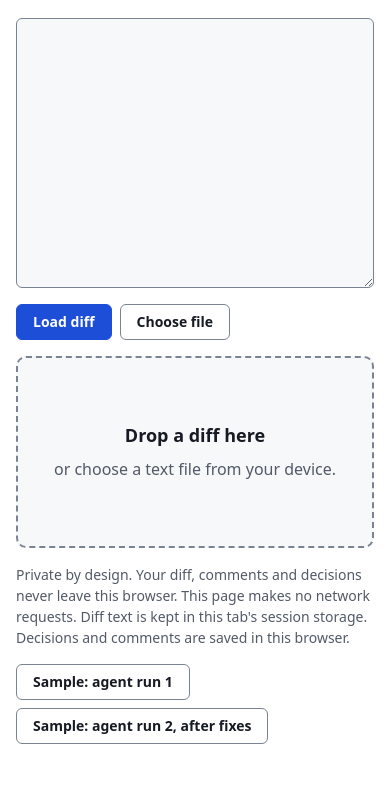
Test: RAIL-DISCLOSURE the rail becomes a Files (N) disclosure below 64rem › is an open list that needs no toggle where the rail is a column
The image size is (390, 804).
(page scrolled)
Click the button "Sample: agent run 1" at (103, 682), box [16,664,190,700]
(page scrolled)
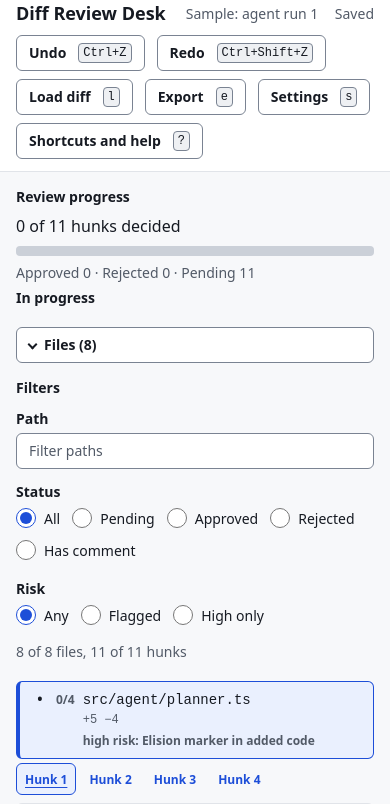
expect the heading "Files (8)" is shown: met, box [16,326,374,362]
